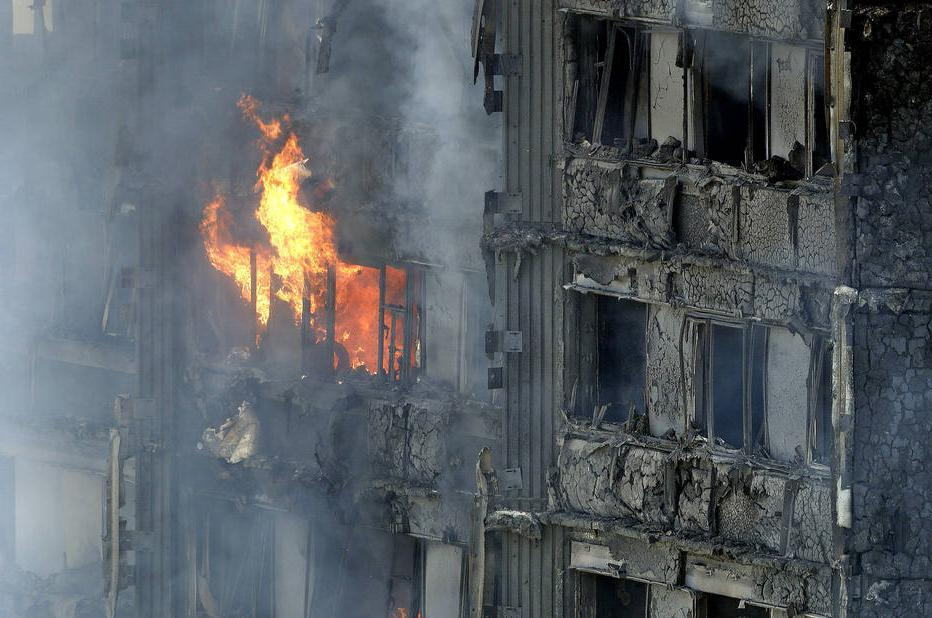Fire: (196, 98, 415, 381)
